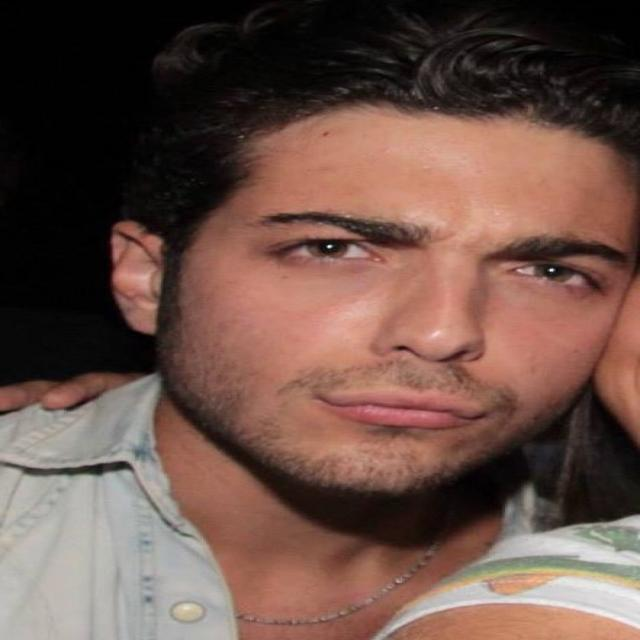earlobe: (110, 219, 170, 336)
